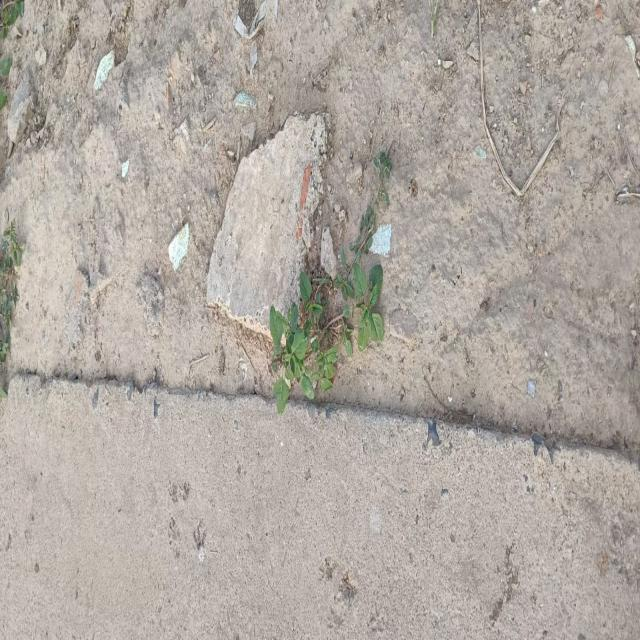plant: (270, 236, 382, 412), (361, 154, 391, 241)
